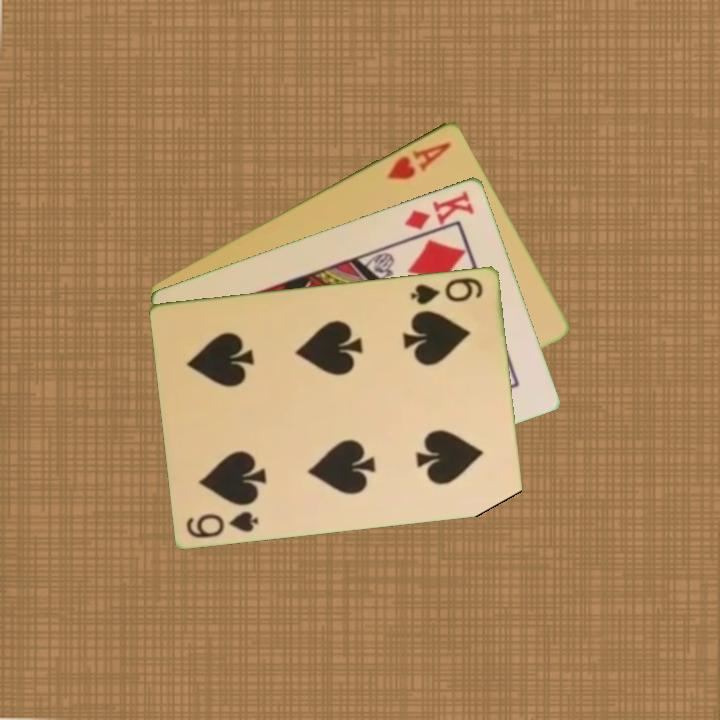6s: (407, 273, 486, 307), (183, 507, 262, 541)
Ah: (383, 137, 454, 183)
Kd: (400, 186, 477, 233)
